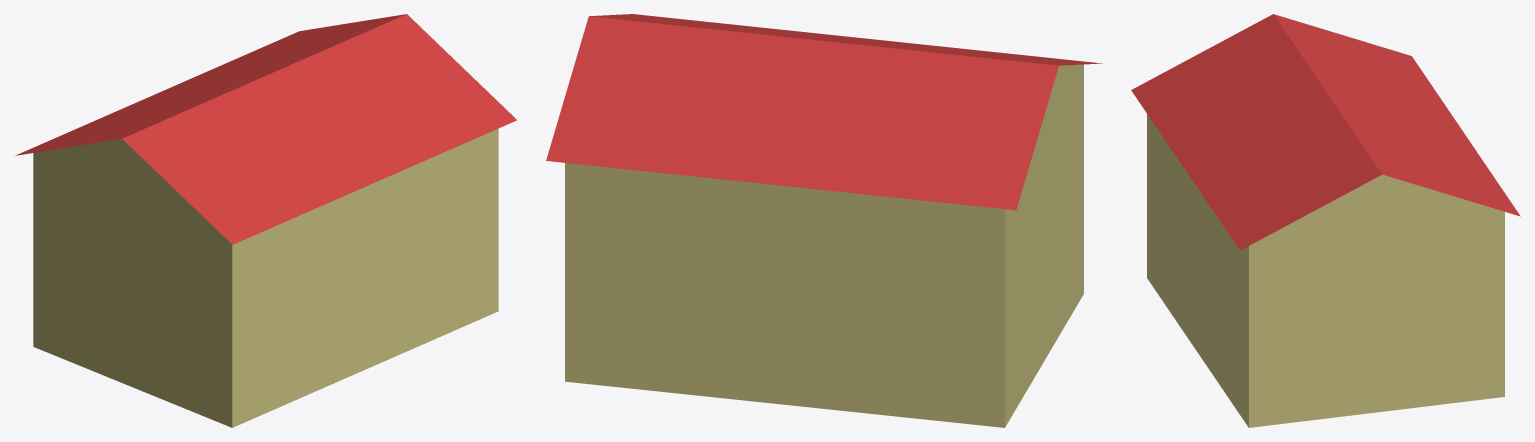
3 views of the same model, side by side, from view 1: azimuth 30°, elevation 25°; view 2: azimuth 150°, elevation 25°; view 3: azimuth 270°, elevation 25° (orthographic). The views are drawn at different scales.
Size of the model in its own units: 18.03 by 15.26 by 10.49.
